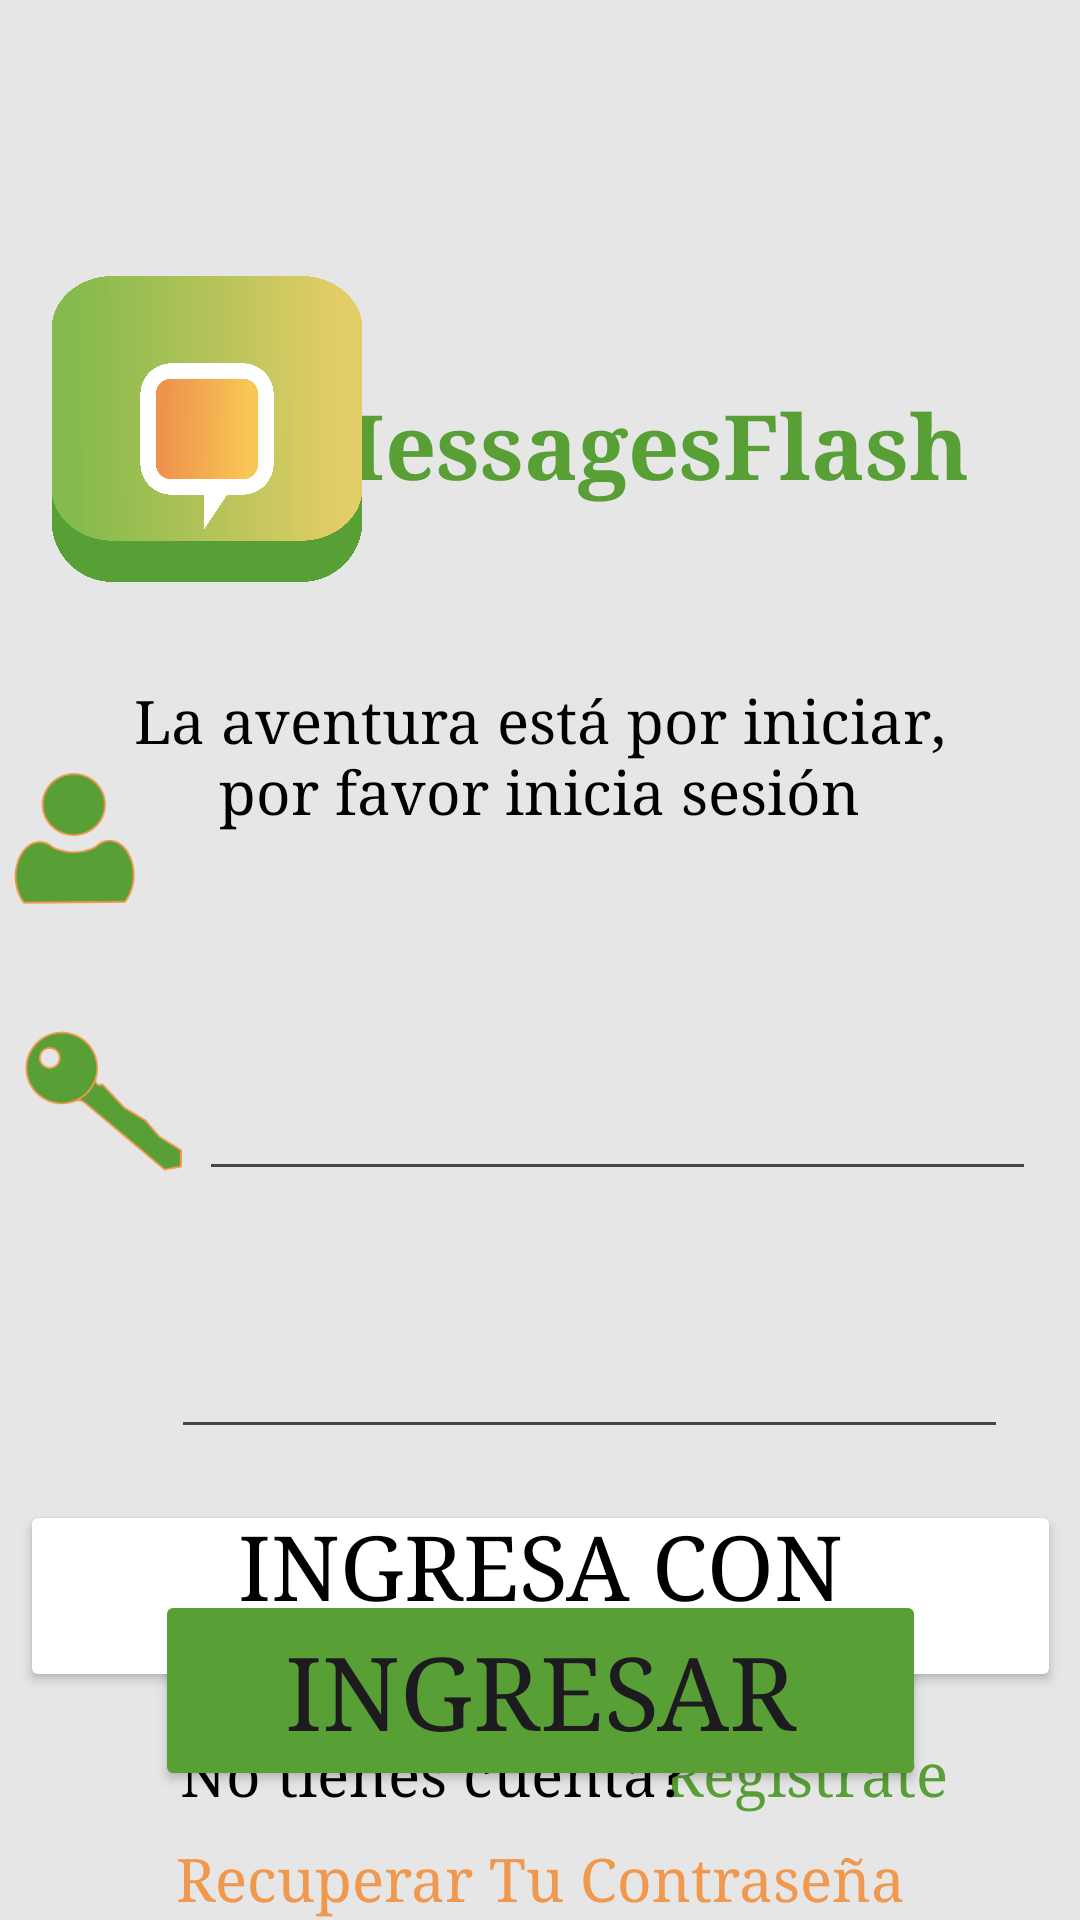

Locate icon controls on the screen. Image size 1080 × 1920, boxes as bbox=(x1, y1, x2, y2).
key: bbox=(25, 1031, 182, 1171)
user: bbox=(14, 773, 135, 904)
